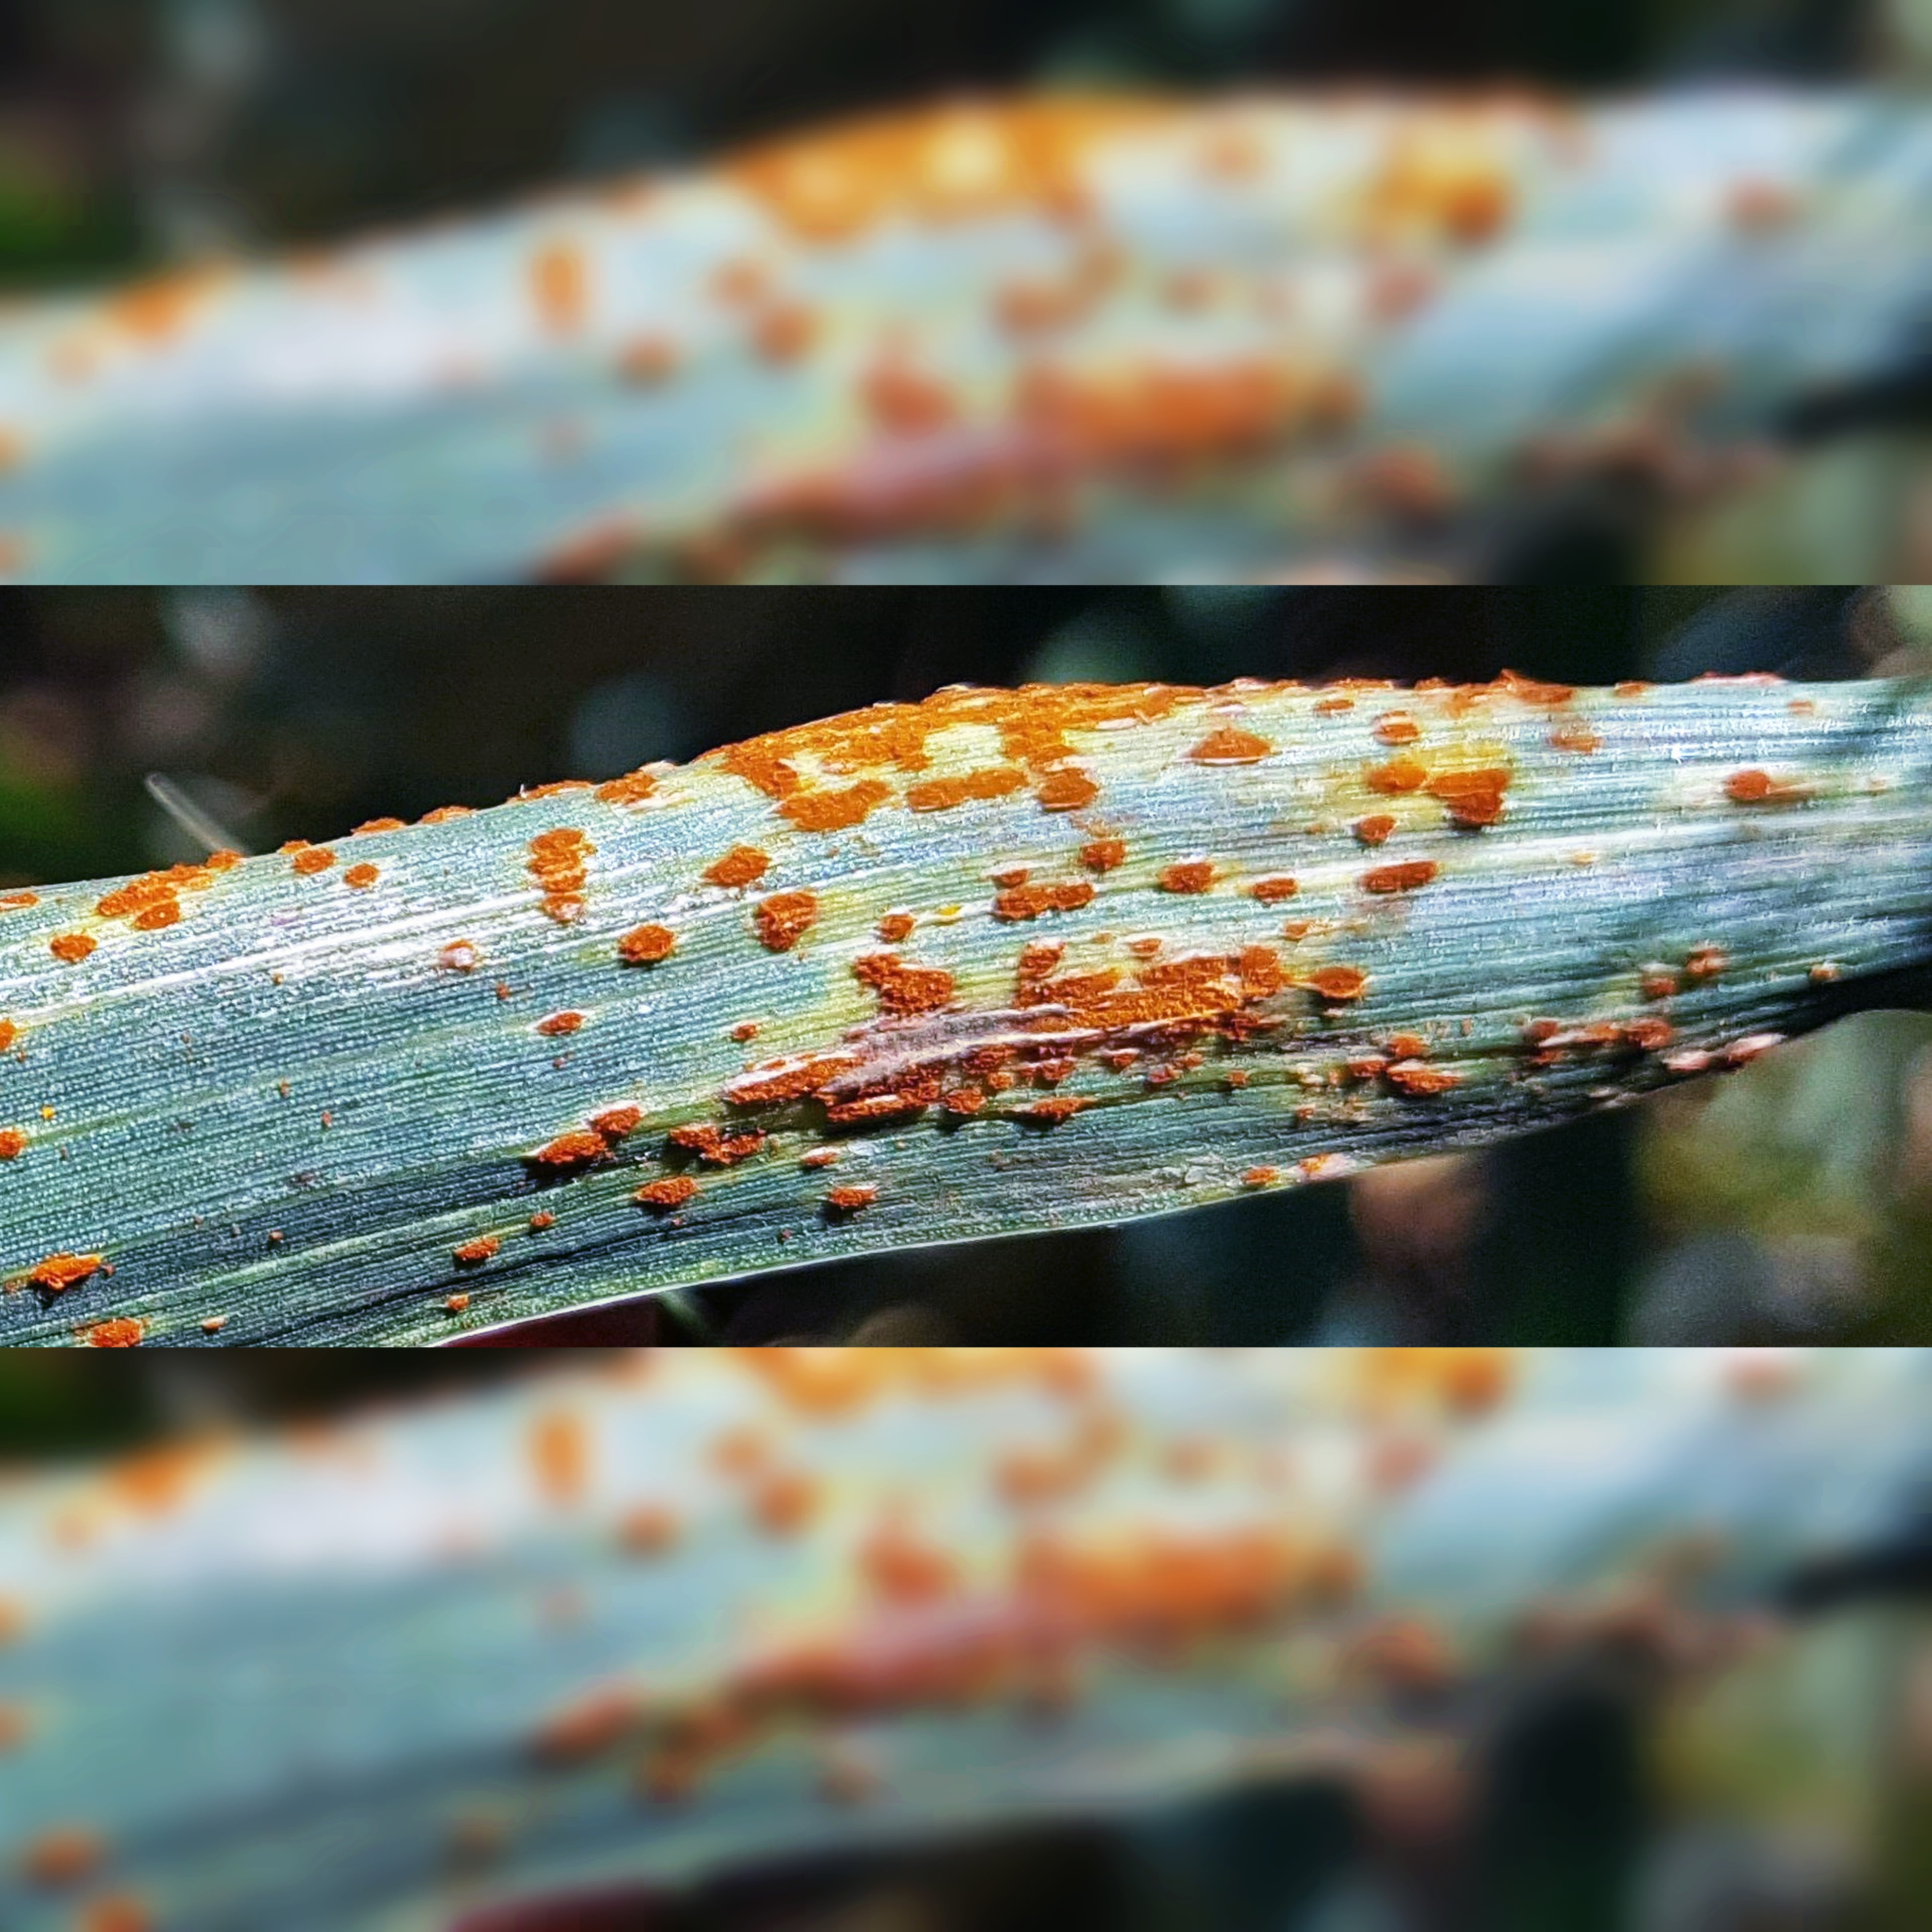Leaf Rust: (333, 614, 1681, 1286)
